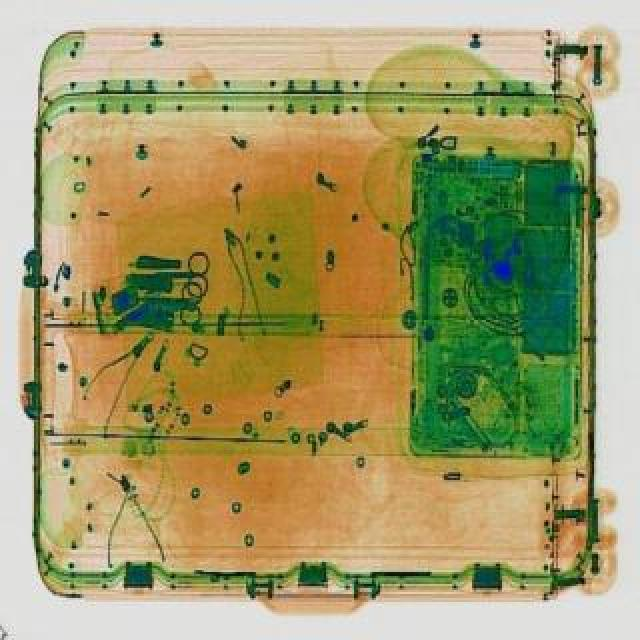pliers: (138, 248, 210, 294), (136, 280, 204, 326)
